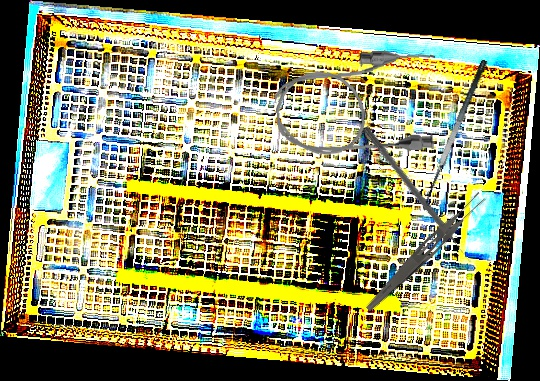Cannula: (271, 46, 444, 162)
Dressing Forceps: (363, 188, 488, 318)
Pusher: (360, 124, 474, 267)
Spatula Surgical: (417, 58, 501, 211)
